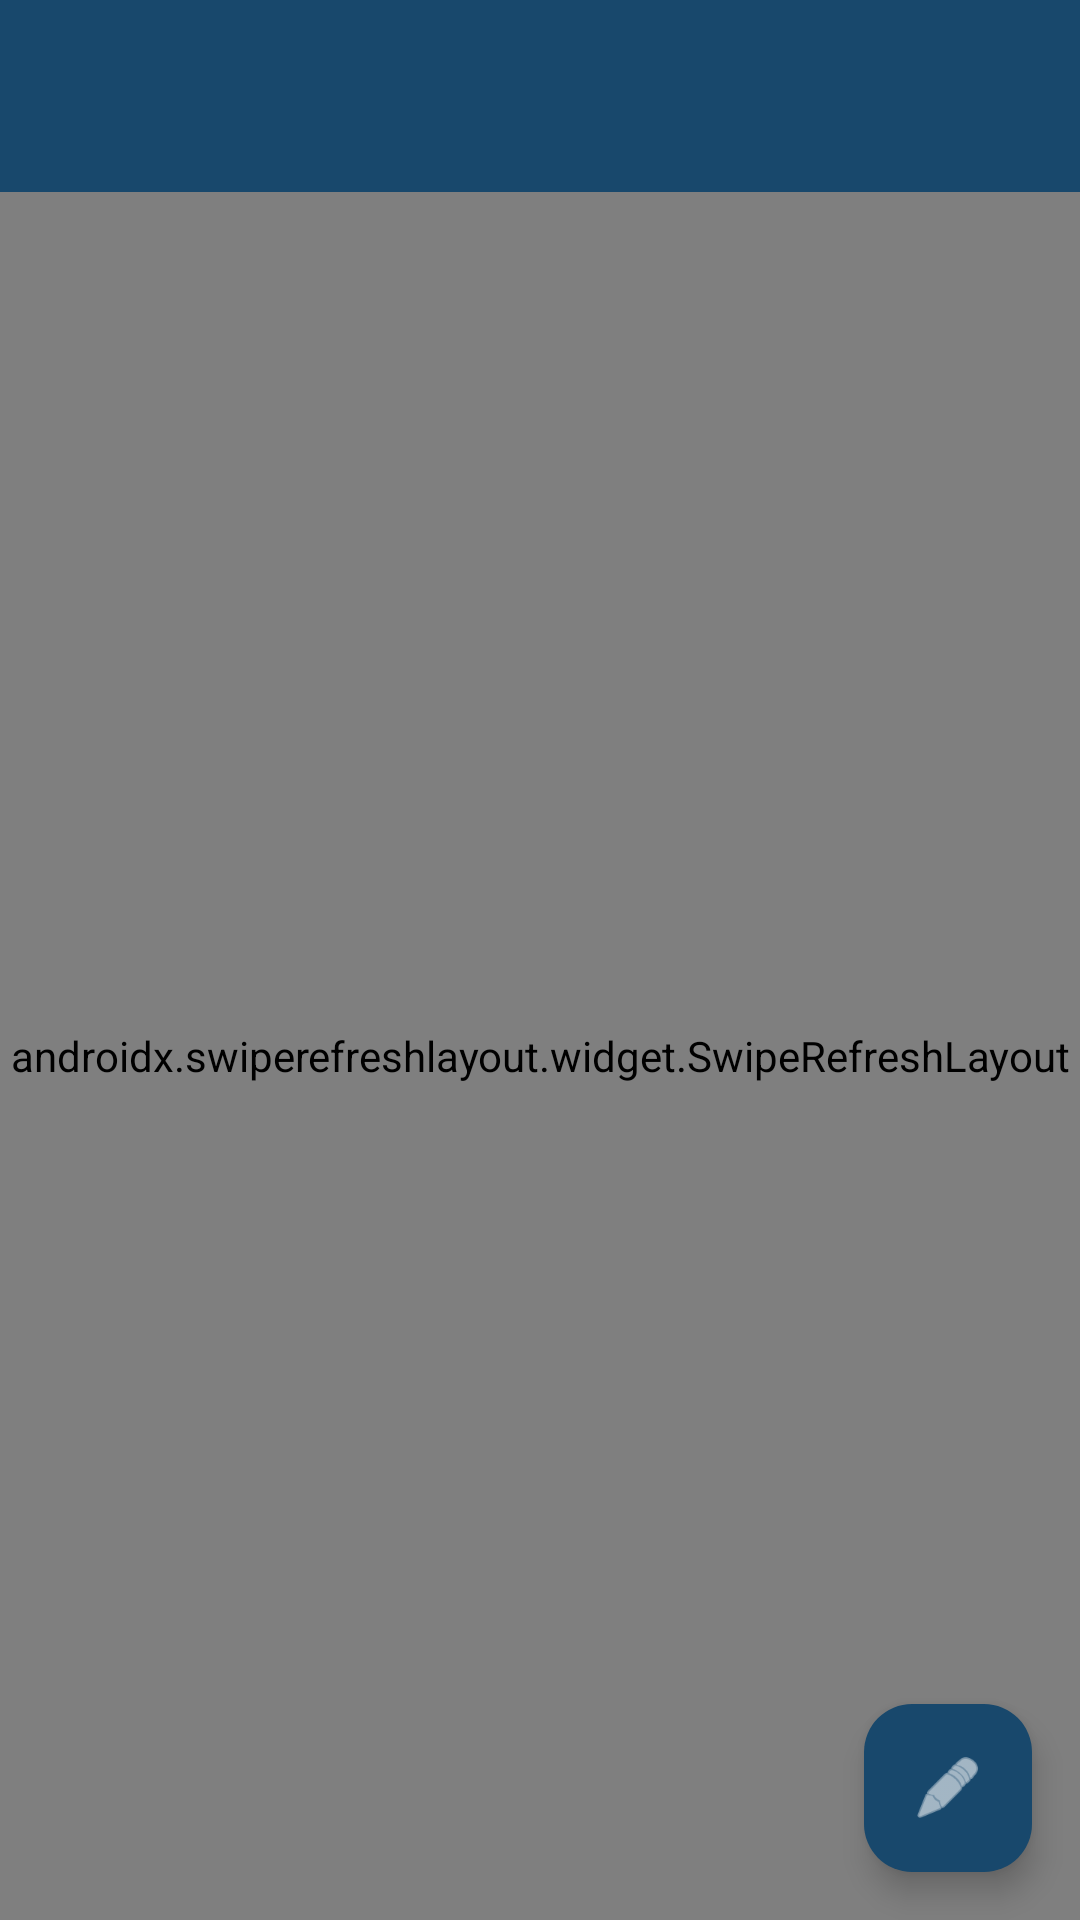

Icon click points for this 1080 × 1920 phone screenshot, format (x,y):
Написать письмо: (948,1788)
